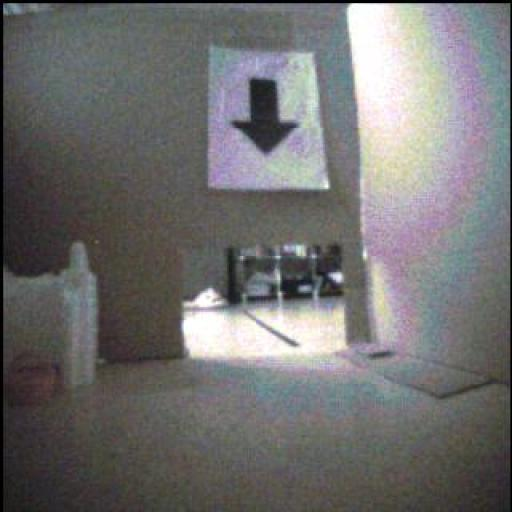arrow: (233, 80, 299, 155)
